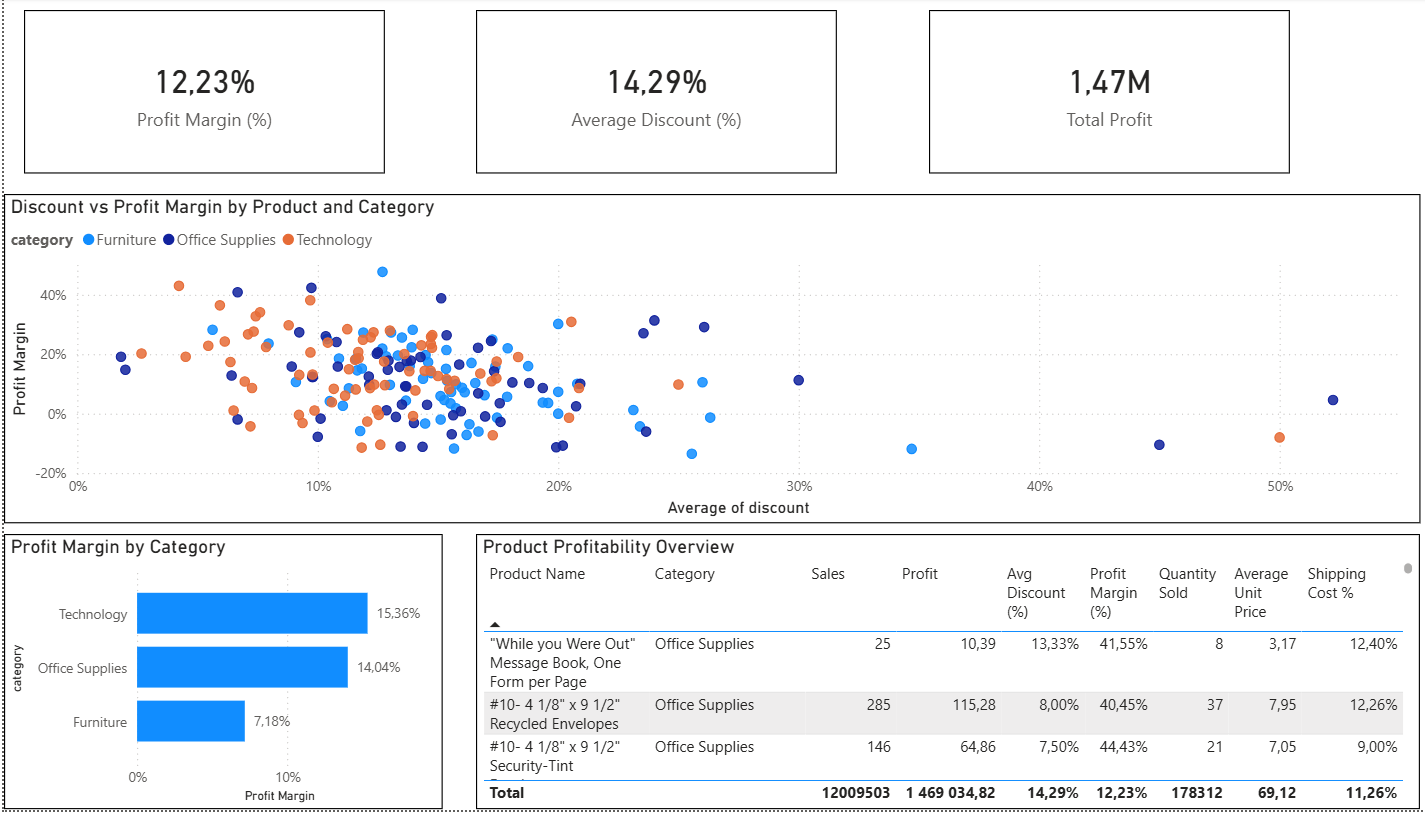

Layout of this report page (visuals, bound fields, positions):
{"tool":"powerbi","page":{"name":"Profitability Analysis","canvas":[1280,720],"ordinal":8},"visuals":[{"type":"scatterChart","title":"Discount vs Profit Margin by Product and Category","fields":{"X":["Avg(SuperStoreOrders.discount)"],"Y":["SuperStoreOrders.Profit Margin"],"Category":["SuperStoreOrders.product_name"],"Series":["SuperStoreOrders.category"]},"box":[0,174.1,1255.7,291.8],"z":0},{"type":"card","fields":{"Values":["SuperStoreOrders.Profit Margin"]},"box":[17.5,10.7,320,144.9],"z":1000},{"type":"card","fields":{"Values":["SuperStoreOrders.Avg Discount"]},"box":[418.2,10.7,320,144.9],"z":2000},{"type":"card","fields":{"Values":["SuperStoreOrders.Total Profit"]},"box":[819.9,10.7,320,144.9],"z":3000},{"type":"clusteredBarChart","title":"Profit Margin by Category","fields":{"Category":["SuperStoreOrders.category"],"Y":["SuperStoreOrders.Profit Margin"]},"box":[0,475.6,389.1,244.1],"z":4000},{"type":"tableEx","title":"Product Profitability Overview","fields":{"Values":["SuperStoreOrders.product_name","SuperStoreOrders.category","Sum(SuperStoreOrders.sales)","Sum(SuperStoreOrders.profit)","Avg(SuperStoreOrders.discount)","SuperStoreOrders.Profit Margin","Sum(SuperStoreOrders.quantity)","Avg(SuperStoreOrders.UnitPrice)","SuperStoreOrders.ShippingCostPercent"]},"box":[418.2,475.6,837.4,244.1],"z":5000}]}

Visuals, with their boxes in screenshot pixels (x1, y1, x2, y2), scaled from the page's 1280x720 canvas onto the 1425x814 screenshot:
"Discount vs Profit Margin by Product and Category" scatterChart: <region>0, 197, 1398, 527</region>
card - SuperStoreOrders.Profit Margin: <region>19, 12, 376, 176</region>
card - SuperStoreOrders.Avg Discount: <region>466, 12, 822, 176</region>
card - SuperStoreOrders.Total Profit: <region>913, 12, 1269, 176</region>
"Profit Margin by Category" clusteredBarChart: <region>0, 538, 433, 813</region>
"Product Profitability Overview" tableEx: <region>466, 538, 1398, 813</region>
